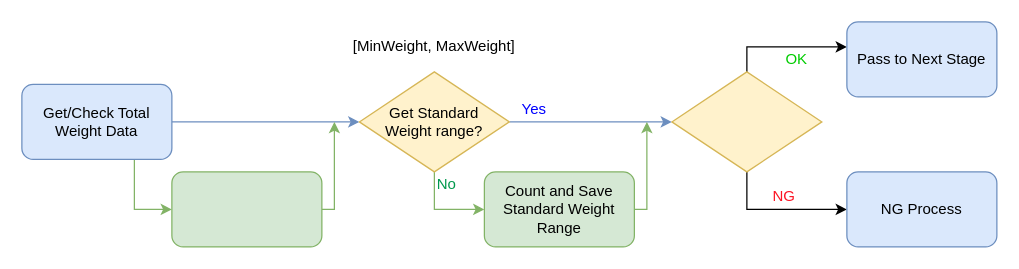
Image size: 1019x269. Some labels were removed from this diagram. The box of each missing label's shape, as (x1, y1, x2, y2) in pixels:
Caculate Unit Weight: (171, 171, 322, 247)
Check Weight (Unit / Total): (671, 71, 822, 172)
